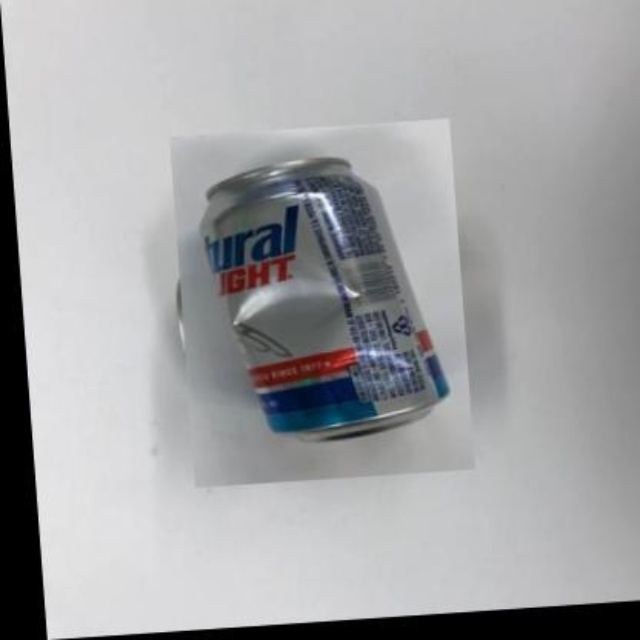trash: (200, 157, 448, 438)
